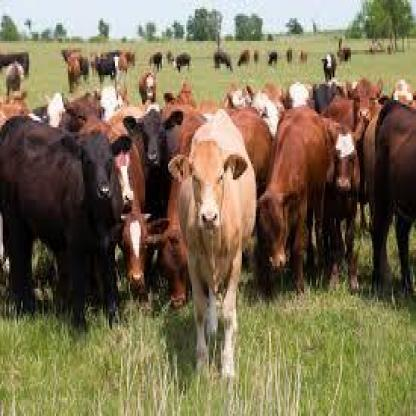cow: (1, 115, 132, 328), (167, 108, 258, 385), (253, 104, 332, 298), (112, 108, 172, 308), (123, 107, 184, 295), (373, 96, 416, 301), (322, 112, 362, 294), (103, 127, 136, 205), (246, 80, 284, 141), (345, 77, 384, 136), (59, 88, 106, 135), (90, 52, 117, 84), (312, 80, 338, 112), (392, 78, 416, 112), (284, 80, 312, 109), (0, 50, 29, 77), (5, 60, 24, 101), (137, 68, 156, 105), (220, 83, 246, 110), (64, 54, 81, 94), (0, 100, 32, 121), (320, 50, 337, 82), (212, 50, 233, 73), (172, 50, 190, 73), (77, 56, 91, 83), (148, 49, 164, 69), (236, 48, 251, 68), (266, 50, 278, 68)
